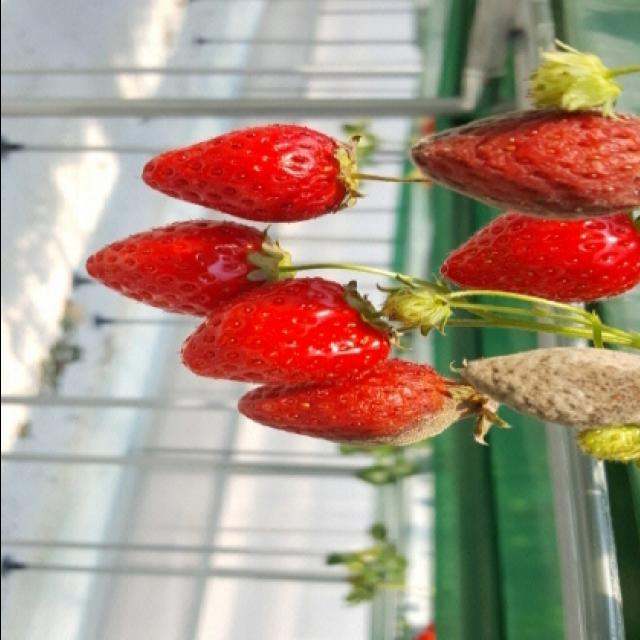Gray Mold: (447, 345, 640, 429), (315, 378, 511, 447)
